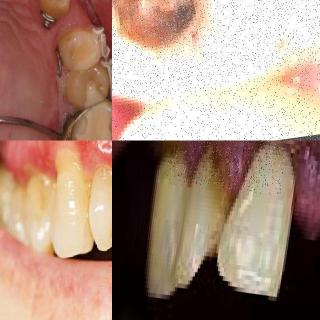Gum Swelling: (177, 140, 254, 183), (29, 141, 112, 177)
calculus: (19, 153, 47, 187)
cavities: (112, 0, 320, 96)
maligned: (174, 156, 232, 285)
plaque: (85, 159, 112, 189)
